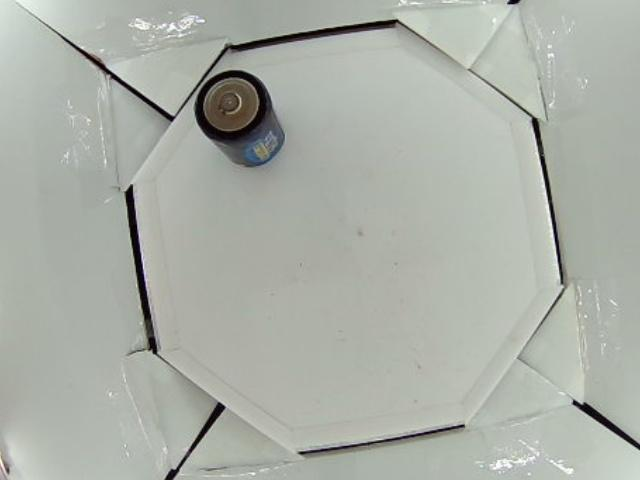Battery: (192, 69, 285, 167)
